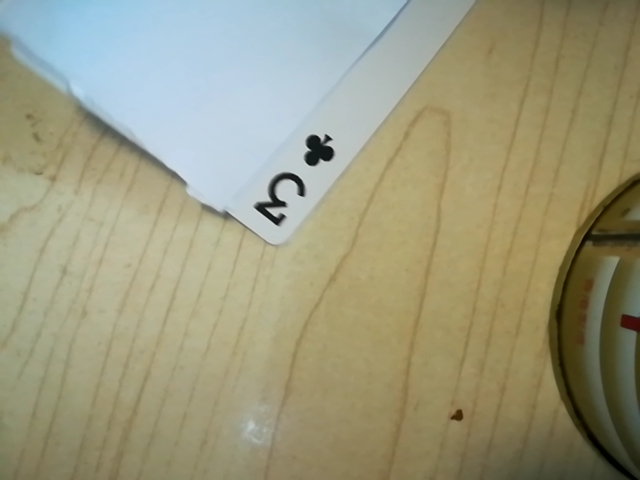mh 3: (244, 124, 342, 234)
